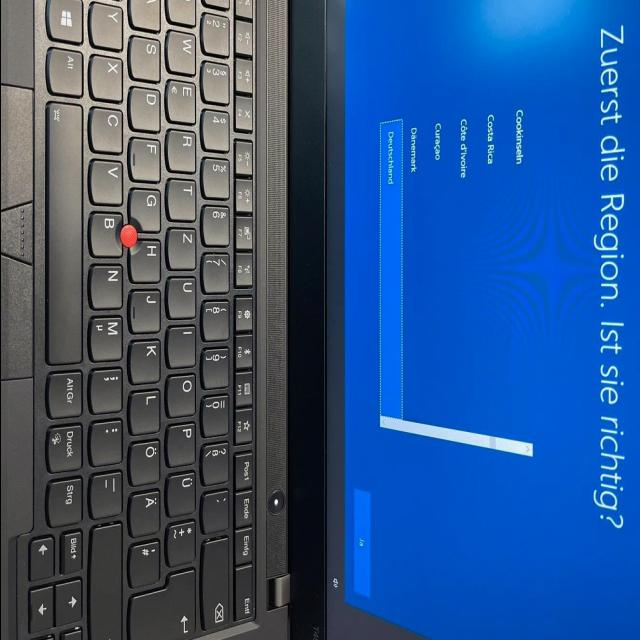0: (202, 392, 231, 435)
1: (203, 0, 232, 12)
2: (203, 10, 232, 54)
3: (203, 59, 232, 103)
4: (204, 107, 232, 149)
5: (203, 155, 231, 197)
6: (203, 203, 231, 245)
7: (203, 251, 231, 293)
8: (203, 297, 231, 339)
9: (202, 345, 231, 387)
a: (131, 0, 163, 30)
accent: (202, 488, 231, 531)
ae: (129, 488, 163, 535)
alt-left: (49, 44, 86, 95)
altgr-right: (48, 367, 85, 416)
b: (91, 209, 125, 256)
c: (91, 104, 125, 152)
caret: (204, 0, 232, 12)
comma: (91, 365, 125, 412)
d: (129, 84, 163, 130)
del: (202, 535, 231, 631)
e: (167, 77, 199, 123)
enter: (129, 566, 199, 640)
f: (130, 135, 163, 180)
g: (130, 186, 163, 231)
h: (131, 237, 163, 282)
hash: (130, 538, 163, 585)
i: (168, 323, 198, 367)
j: (130, 287, 164, 331)
k: (130, 337, 163, 383)
keyboard: (17, 0, 265, 640)
l: (130, 388, 162, 433)
less: (91, 0, 126, 15)
m: (90, 312, 125, 360)
minus: (91, 468, 125, 517)
n: (91, 262, 125, 308)
o: (166, 371, 198, 415)
oe: (129, 438, 163, 484)
p: (167, 420, 198, 465)
plus: (167, 519, 199, 564)
point: (91, 416, 125, 464)
q: (168, 0, 199, 24)
r: (167, 126, 198, 171)
s: (130, 34, 163, 80)
shift-left: (91, 0, 126, 22)
shift-lock: (129, 0, 163, 34)
shift-right: (90, 520, 126, 640)
space: (48, 99, 86, 363)
ss: (203, 440, 231, 484)
strg-left: (48, 0, 85, 24)
strg-right: (47, 474, 85, 525)
t: (168, 176, 198, 220)
tab: (168, 0, 199, 26)
u: (168, 274, 199, 317)
ue: (166, 470, 198, 515)
v: (91, 157, 125, 204)
w: (168, 27, 199, 73)
x: (91, 52, 125, 100)
y: (91, 0, 125, 49)
z: (168, 225, 199, 269)
